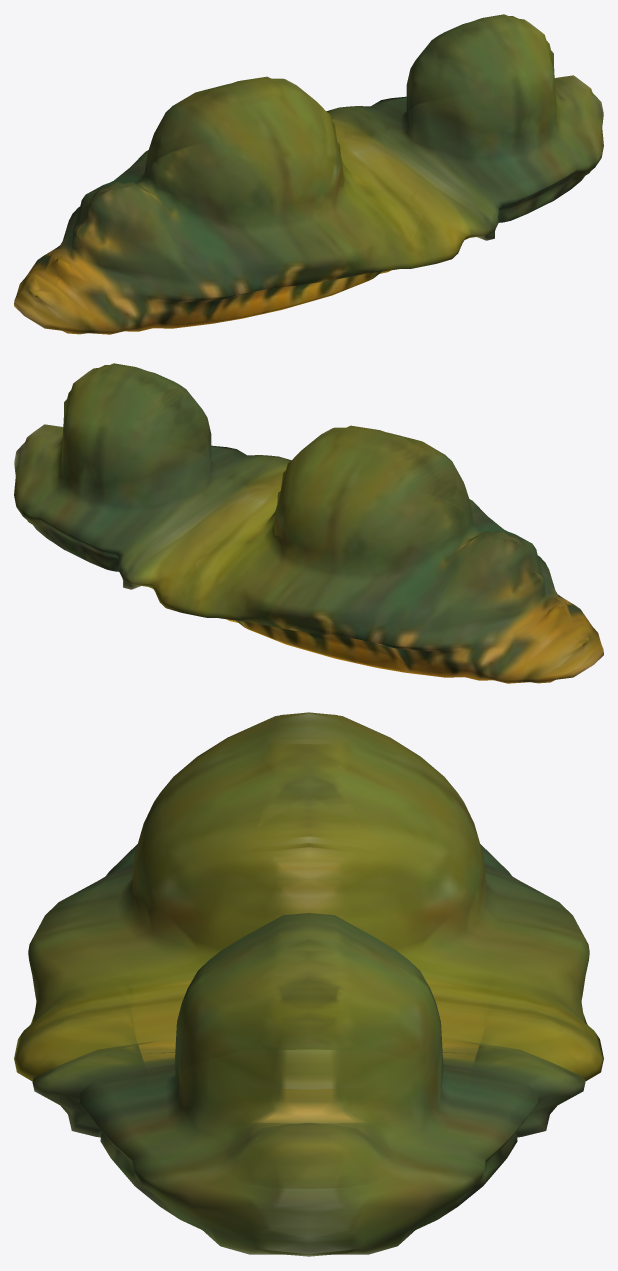
File: 01_rocks_and_bushes_r03_c09.glb
3 views of the same model, one above another, from view 1: azimuth 30°, elevation 25°; view 2: azimuth 150°, elevation 25°; view 3: azimuth 270°, elevation 25° (orthographic). The views are drawn at different scales.
Parts seen in each view (by area): view 1: 01_rocks_and_bushes_r03_c09; view 2: 01_rocks_and_bushes_r03_c09; view 3: 01_rocks_and_bushes_r03_c09.
Boxes of the visible parts, x1,y1,x2,y2 form: 01_rocks_and_bushes_r03_c09: (14, 14, 603, 334); 01_rocks_and_bushes_r03_c09: (14, 363, 603, 683); 01_rocks_and_bushes_r03_c09: (14, 712, 603, 1256).
Bounding box in the file's own units: 2.18 × 0.7302 × 1.14.
1 material, 1 textured.
